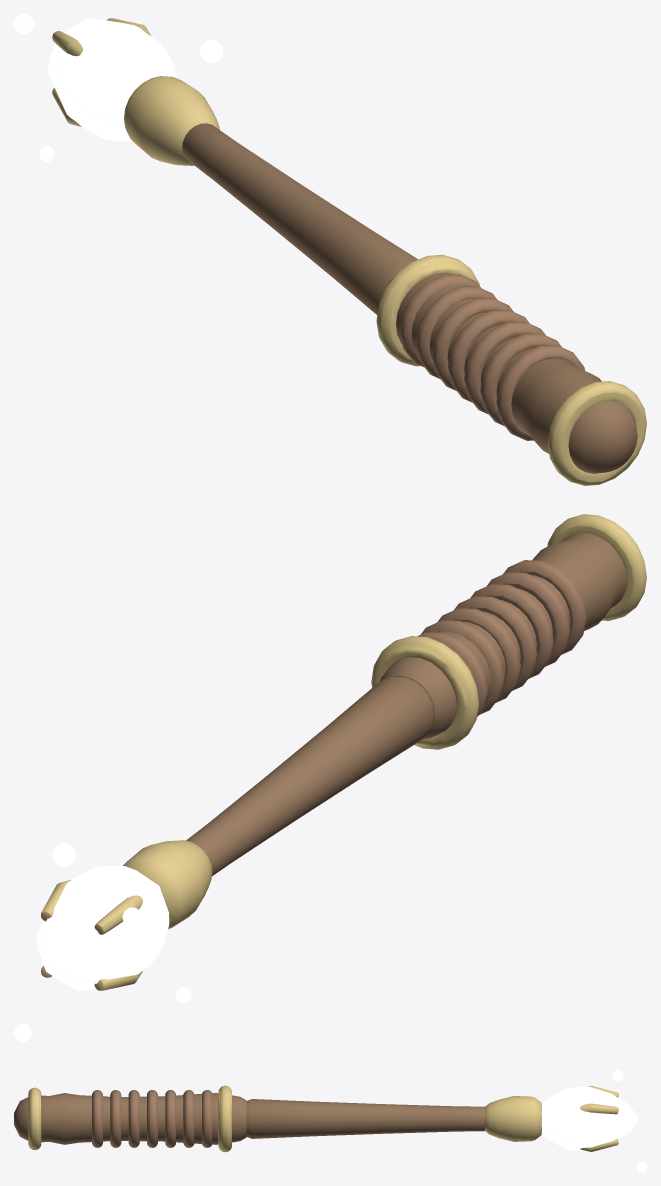
The model's file is th31_zauberstab.glb.
The picture shows the model from 3 angles, top to bottom: view 1: azimuth 30°, elevation 25°; view 2: azimuth 150°, elevation 25°; view 3: azimuth 270°, elevation 25°; orthographic projection. The views are drawn at different scales.
Visible parts, largest first — view 1: Dreh.001, Dreh, Dreh.003, Dreh.002, Torus.007, Torus.008, Torus, Torus.002, Torus.001, Torus.003, Torus.004, Torus.005 (+1 smaller); view 2: Dreh.001, Dreh.003, Dreh, Dreh.002, Torus.008, Torus.007, Torus.001, Torus.002, Torus.003, Torus, Torus.004, Torus.005 (+2 smaller); view 3: Dreh.001, Dreh, Dreh.003, Dreh.002, Torus.008, Torus.007, Torus.001, Torus.002, Torus.005, Torus.003, Torus.004, Torus (+3 smaller).
Part boxes in pixels (box(x1,y1,x2,y2)): Dreh.001: box(182, 123, 417, 314); Dreh: box(389, 272, 637, 473); Dreh.003: box(47, 18, 176, 140); Dreh.002: box(124, 76, 219, 165); Torus.007: box(547, 381, 646, 485); Torus.008: box(376, 254, 479, 366); Torus: box(496, 345, 584, 440); Torus.002: box(464, 321, 545, 414); Torus.001: box(480, 333, 561, 426); Torus.003: box(448, 309, 529, 402); Torus.004: box(431, 298, 513, 390); Torus.005: box(415, 286, 497, 379); Dreh.001: box(186, 676, 433, 876); Dreh.003: box(36, 866, 169, 990); Dreh: box(380, 532, 626, 739); Dreh.002: box(123, 840, 212, 929); Torus.008: box(371, 636, 478, 749); Torus.007: box(547, 514, 646, 620); Torus.001: box(487, 572, 570, 666); Torus.002: box(470, 584, 553, 678); Torus.003: box(454, 596, 537, 690); Torus: box(503, 560, 586, 654); Torus.004: box(437, 608, 520, 702); Torus.005: box(421, 620, 504, 714); Dreh.001: box(246, 1099, 484, 1138); Dreh: box(14, 1093, 246, 1144); Dreh.003: box(541, 1086, 638, 1151); Dreh.002: box(484, 1096, 541, 1141); Torus.008: box(218, 1085, 231, 1152); Torus.007: box(28, 1087, 41, 1150); Torus.001: box(110, 1090, 121, 1147); Torus.002: box(128, 1090, 139, 1147); Torus.005: box(183, 1090, 194, 1147); Torus.003: box(147, 1090, 157, 1147); Torus.004: box(165, 1090, 175, 1147); Torus: box(92, 1090, 102, 1147).
Bounding box in the file's own units: 0.0695 × 0.0572 × 0.4254.
